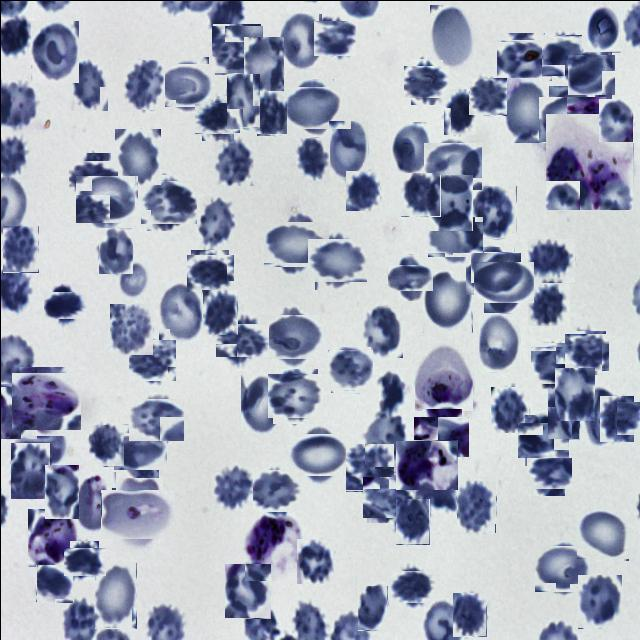red blood cell: (542, 90, 600, 146), (422, 269, 472, 332), (268, 215, 324, 271), (29, 20, 78, 82), (78, 172, 134, 226), (502, 77, 548, 142), (264, 310, 318, 364), (429, 2, 473, 68), (94, 562, 136, 628), (310, 233, 362, 286), (577, 506, 629, 559), (293, 428, 345, 480), (537, 542, 589, 594), (426, 140, 478, 192), (158, 282, 202, 343), (478, 256, 529, 307), (114, 128, 160, 184), (286, 82, 337, 132), (224, 563, 270, 618), (478, 313, 520, 373), (162, 59, 212, 109), (143, 176, 193, 226), (270, 370, 320, 420), (240, 374, 282, 433), (428, 174, 472, 230), (212, 23, 260, 74), (577, 574, 622, 628), (131, 395, 180, 444), (468, 249, 517, 298), (498, 36, 548, 84), (471, 185, 516, 238), (328, 120, 368, 179), (364, 410, 406, 466), (280, 13, 322, 68), (252, 466, 300, 514), (431, 212, 479, 260), (344, 443, 392, 491), (109, 303, 153, 355), (416, 412, 464, 459), (243, 36, 283, 91), (10, 442, 49, 498), (527, 238, 575, 283), (121, 59, 164, 109), (390, 121, 430, 174), (456, 480, 496, 533), (554, 367, 594, 420), (364, 474, 410, 520), (362, 305, 402, 357), (0, 383, 37, 439), (117, 427, 162, 473), (70, 58, 108, 111), (583, 387, 616, 446), (130, 337, 174, 381), (568, 52, 612, 96), (520, 418, 564, 462), (527, 279, 569, 325), (214, 136, 253, 184), (226, 73, 260, 128), (328, 348, 372, 390), (220, 318, 262, 362), (212, 464, 252, 510), (44, 464, 78, 518), (197, 195, 234, 244), (71, 156, 114, 198), (188, 251, 230, 294), (532, 344, 574, 386), (400, 172, 440, 216), (490, 386, 528, 432), (2, 225, 38, 272), (296, 538, 333, 583), (200, 289, 237, 334), (547, 388, 579, 439), (596, 398, 636, 438), (541, 34, 581, 74), (566, 332, 606, 372), (586, 6, 620, 52), (98, 227, 132, 273), (395, 498, 429, 544), (253, 90, 287, 136), (406, 61, 446, 100), (443, 88, 476, 135), (598, 98, 633, 142), (315, 18, 354, 57), (392, 566, 432, 604), (88, 424, 124, 466), (452, 592, 486, 636), (529, 453, 567, 492), (468, 76, 506, 115), (295, 137, 329, 180), (198, 98, 235, 136), (36, 564, 72, 602), (345, 170, 379, 210), (357, 585, 387, 630), (392, 259, 428, 295), (66, 543, 102, 579), (46, 288, 82, 322)
ring: (106, 482, 168, 544), (74, 471, 116, 535)
schizont: (244, 514, 300, 580)
trophozoite: (545, 113, 633, 210), (14, 368, 76, 432), (414, 344, 472, 410), (395, 438, 457, 488), (27, 508, 77, 566)
